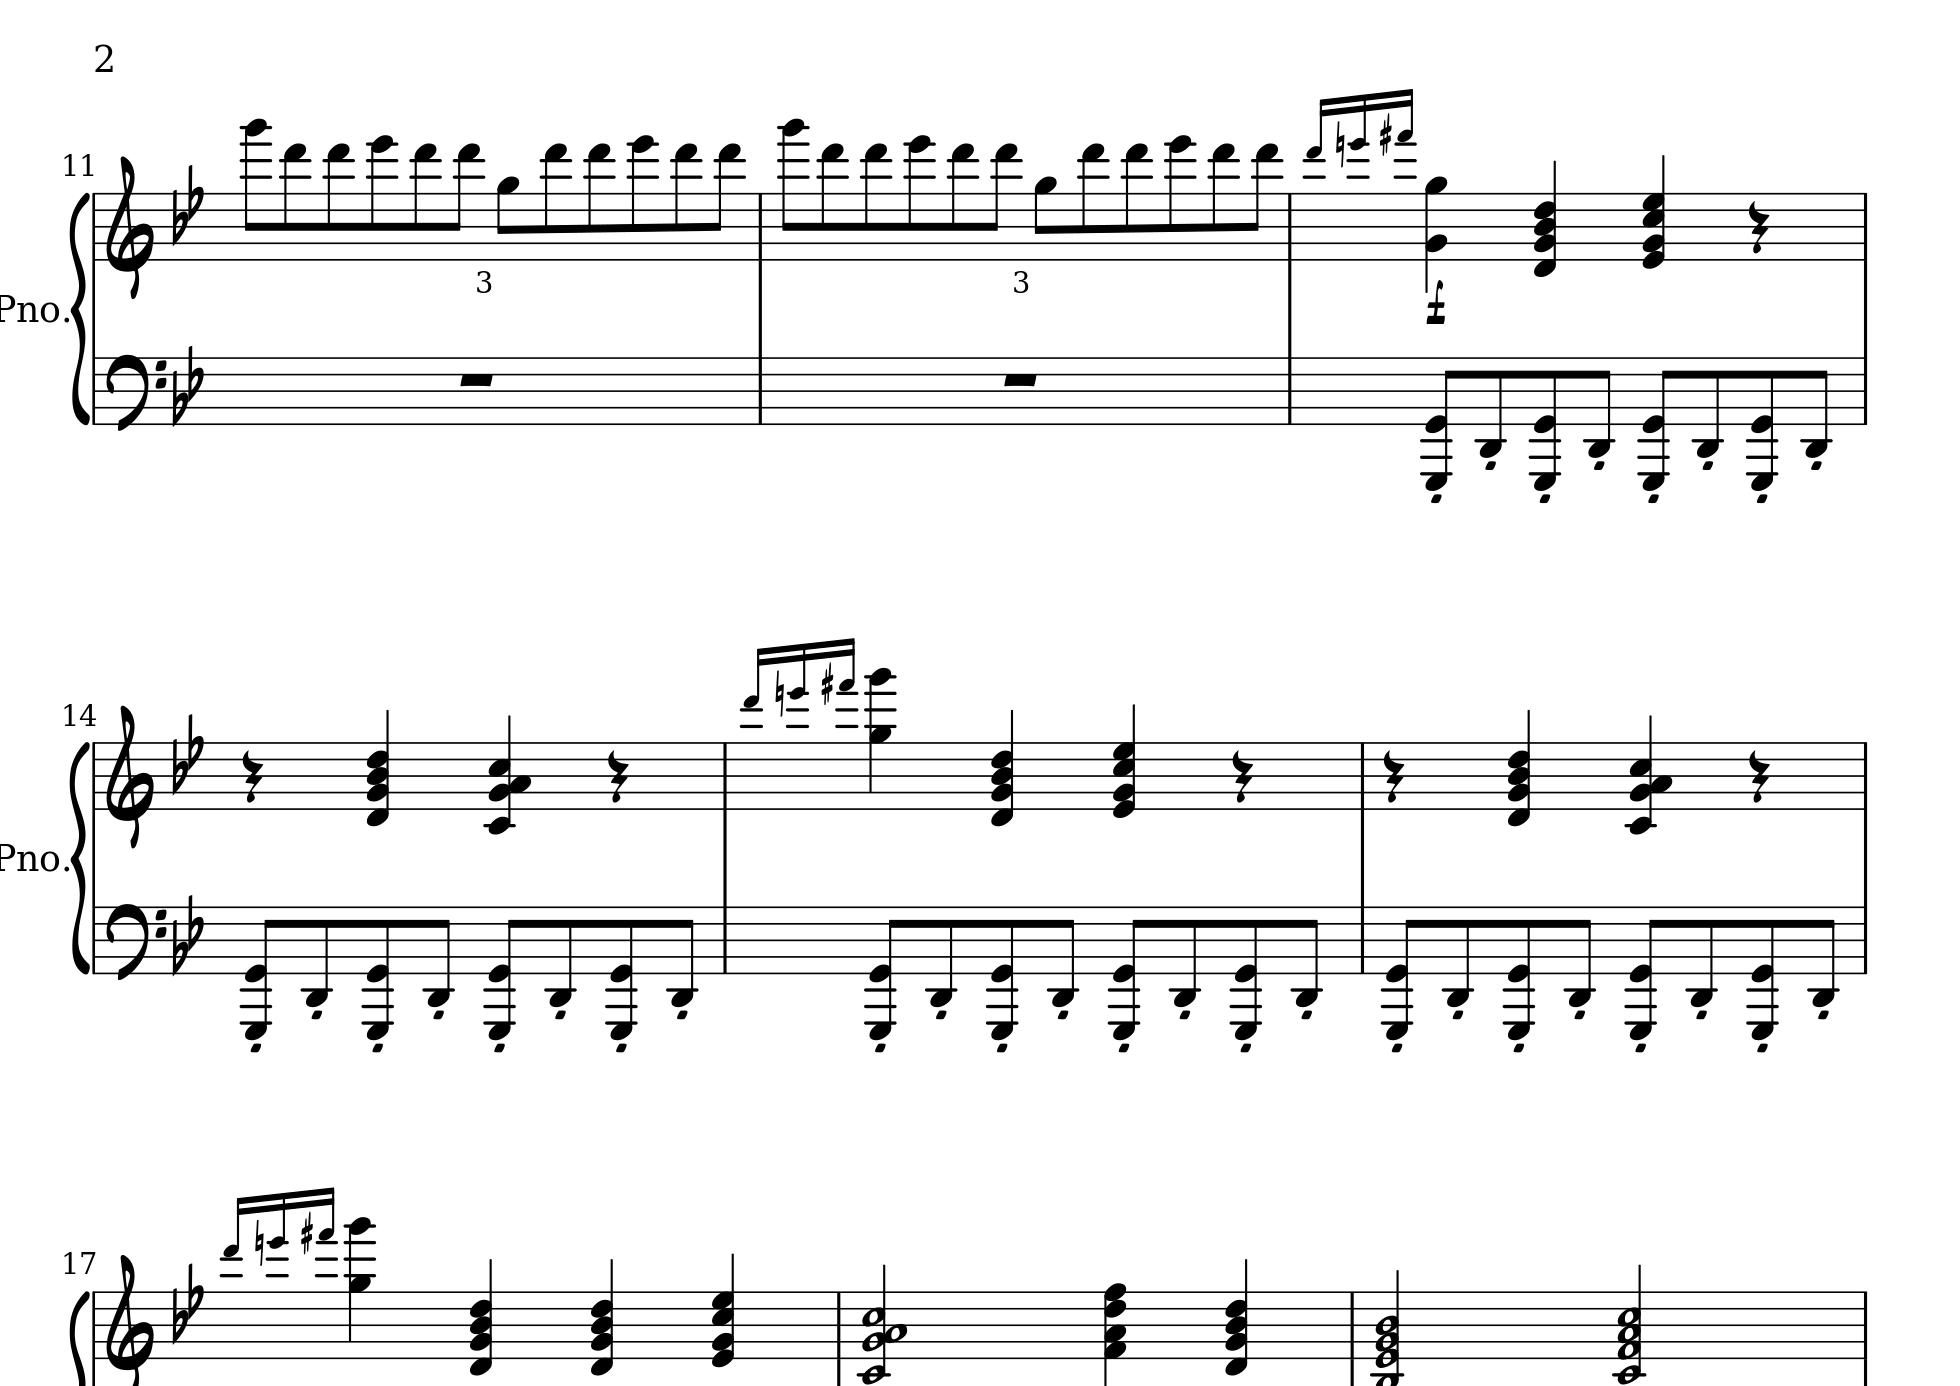1: (61, 1248, 76, 1278), (79, 151, 96, 178), (61, 700, 76, 729), (61, 151, 76, 178)
2: (91, 40, 115, 73)
2_4th: (859, 1260, 907, 1381), (1615, 1264, 1647, 1386), (1372, 1267, 1404, 1386)
3: (472, 268, 493, 295), (1011, 268, 1032, 295)
4: (79, 700, 99, 729)
4_2_9: (1425, 172, 1450, 295)
4_4th: (1626, 711, 1674, 837), (588, 1260, 616, 1380), (1224, 1258, 1251, 1380), (468, 1258, 495, 1380), (709, 1251, 736, 1371), (1641, 153, 1668, 271), (990, 708, 1017, 826), (1506, 709, 1533, 826), (366, 708, 391, 828), (1533, 160, 1558, 277), (1111, 703, 1137, 819), (1101, 1281, 1128, 1384)
4_9_16: (343, 1216, 379, 1360)
4_th: (484, 712, 532, 835)
7: (79, 1246, 97, 1278)
8_-3: (1692, 355, 1725, 459), (1584, 355, 1615, 459), (301, 904, 333, 1008), (1048, 904, 1080, 1008), (1170, 904, 1201, 1008), (1687, 904, 1719, 1008), (1476, 355, 1506, 459), (424, 904, 454, 1008), (546, 904, 576, 1008), (667, 904, 697, 1008), (927, 904, 957, 1008), (1293, 904, 1323, 1008), (1444, 904, 1474, 1008), (1566, 904, 1596, 1008), (1809, 904, 1837, 1009), (1803, 355, 1830, 459)
8_-7_0: (1422, 355, 1461, 490), (1527, 355, 1564, 493), (1638, 355, 1675, 493), (1383, 904, 1420, 1042), (360, 904, 397, 1042), (1743, 355, 1780, 492), (1624, 904, 1662, 1041), (1500, 904, 1537, 1041), (1108, 904, 1146, 1041), (984, 904, 1021, 1041), (603, 904, 640, 1041), (483, 904, 520, 1041), (1230, 904, 1266, 1042), (1743, 903, 1779, 1039), (865, 904, 901, 1041), (241, 903, 277, 1039)
8_13: (448, 139, 484, 262), (987, 139, 1021, 262), (709, 141, 744, 262), (1248, 141, 1281, 261), (279, 141, 310, 262), (540, 139, 570, 262), (1077, 139, 1107, 262), (322, 141, 352, 262), (409, 141, 439, 262), (583, 141, 613, 262), (670, 141, 700, 262), (817, 141, 847, 262), (946, 141, 976, 262), (1122, 141, 1152, 262), (1209, 141, 1239, 262), (861, 141, 889, 262)
8_14: (367, 133, 397, 261), (904, 133, 934, 261), (1165, 133, 1195, 261), (628, 133, 657, 261)
8_16: (240, 118, 271, 259), (778, 118, 808, 262)
8_9: (1032, 175, 1059, 261), (495, 174, 520, 262)
B_F: (169, 712, 205, 796), (171, 162, 205, 246), (169, 343, 204, 427), (169, 892, 204, 976), (169, 1263, 204, 1345)
Brace: (70, 187, 91, 427), (70, 736, 91, 975)
Fclef: (103, 352, 168, 433), (103, 900, 166, 982)
Gclef: (103, 154, 157, 300), (103, 703, 157, 849), (103, 1252, 154, 1384)
Natural: (772, 667, 786, 717), (1333, 118, 1347, 166), (252, 1216, 265, 1264)
Pno: (1, 840, 58, 874), (1, 291, 60, 324)
Rests1: (454, 367, 499, 391), (999, 367, 1042, 391)
Rests4: (604, 748, 631, 805), (1230, 748, 1255, 804), (1381, 748, 1405, 805), (240, 748, 264, 804), (1747, 748, 1771, 804), (1747, 199, 1770, 256)
Sharp: (819, 661, 835, 706), (1377, 112, 1393, 156), (298, 1210, 313, 1254)
Single_barline: (715, 904, 733, 973), (751, 357, 769, 424), (751, 193, 769, 259), (1281, 193, 1299, 259), (715, 742, 733, 808), (1354, 904, 1371, 973), (1857, 192, 1873, 259), (1857, 741, 1873, 808), (1281, 357, 1297, 423), (1354, 742, 1371, 808), (1857, 1291, 1873, 1357), (831, 1291, 847, 1357), (1344, 1291, 1360, 1357), (1857, 904, 1872, 973), (1857, 357, 1872, 424), (88, 742, 102, 810), (88, 358, 102, 421), (88, 907, 102, 970), (88, 192, 100, 259), (88, 1291, 100, 1359)
f: (1425, 280, 1447, 327)
